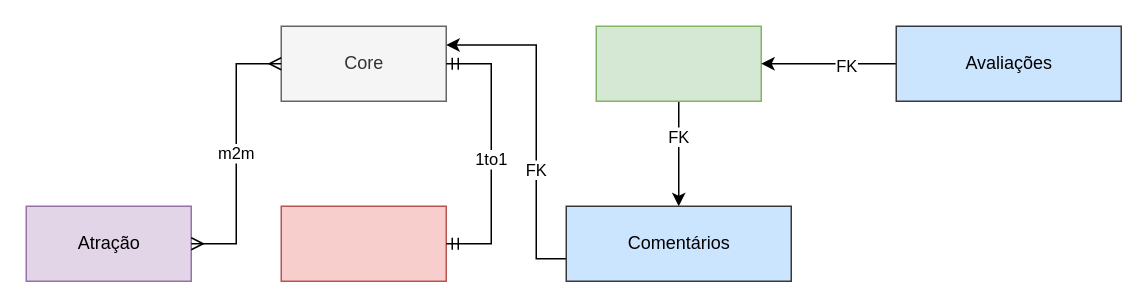
The diagram is 1148 pixels wide and 308 high, and some of its shapes have lost their labels. The centre of each missing label's shape, as x and y in pixels:
Localização: the point at 363,243
User: the point at 678,63
